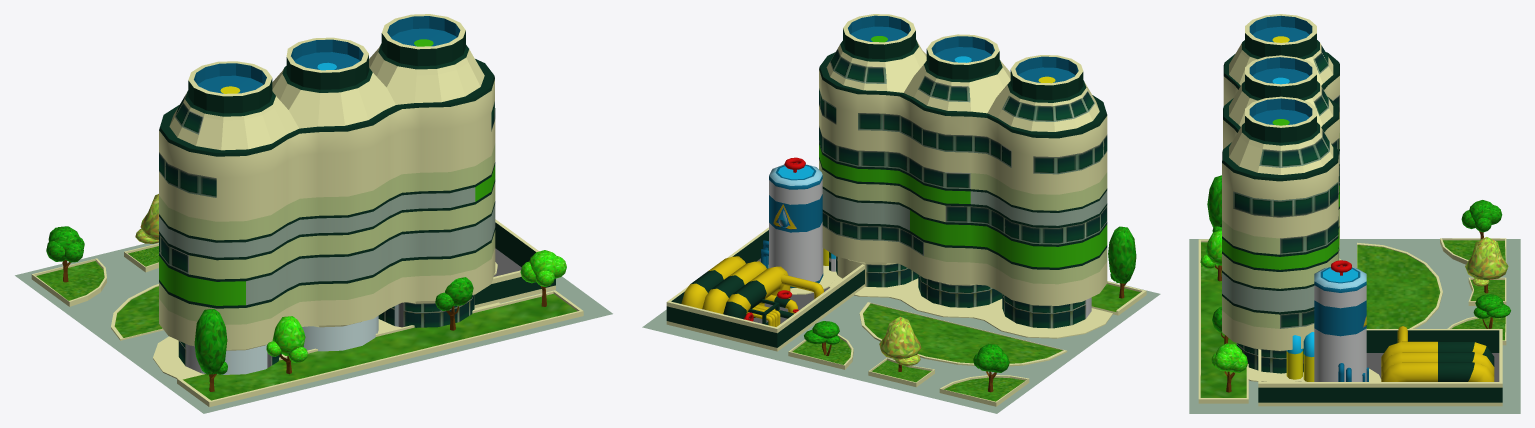
Rendered from utilities_LV2.fbx.
3 views of the same model, side by side, from view 1: azimuth 30°, elevation 25°; view 2: azimuth 150°, elevation 25°; view 3: azimuth 270°, elevation 25° (orthographic). The views are drawn at different scales.
Parts seen in each view (by area): view 1: utilities 2; view 2: utilities 2; view 3: utilities 2.
Boxes of the visible parts, x1,y1,x2,y2 form: utilities 2: (15, 14, 612, 413); utilities 2: (642, 14, 1160, 413); utilities 2: (1189, 14, 1520, 413).
Bounding box in the file's own units: 120 × 79.58 × 96.
